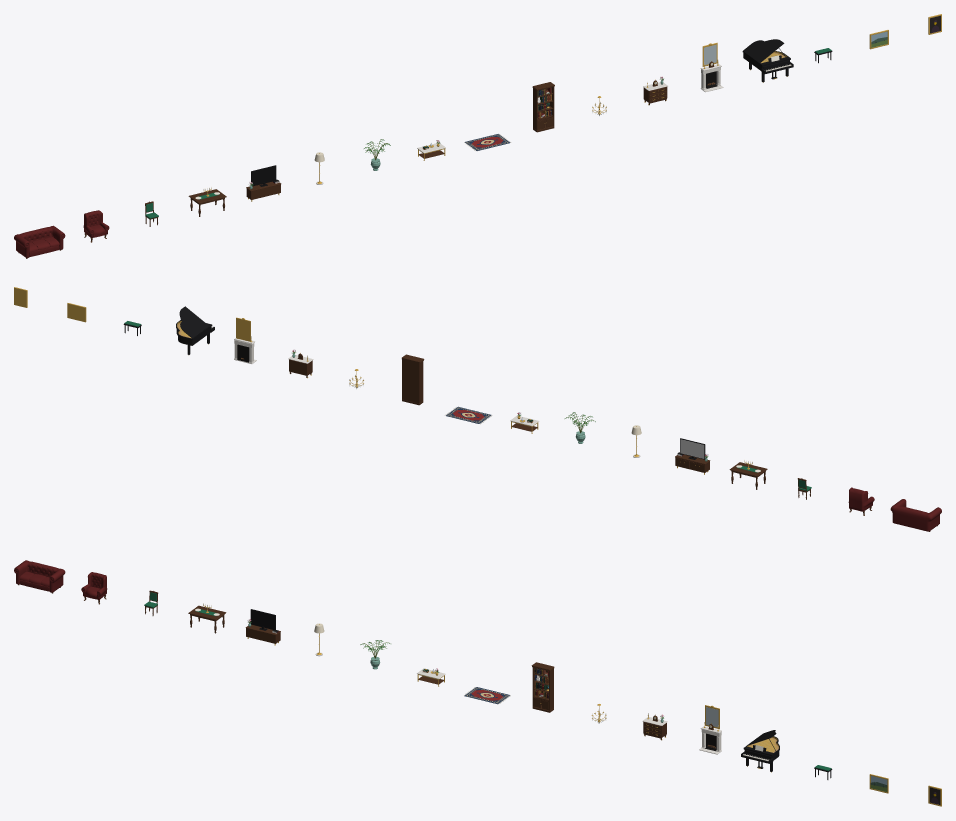
Rendered from Posh.glb.
3 renders of one model, top to bottom at view 1: azimuth 30°, elevation 25°; view 2: azimuth 150°, elevation 25°; view 3: azimuth 330°, elevation 25°, orthographic.
Parts seen in each view (by area): view 1: Piano, Sofa, Bookcase, TV, Fireplace, Armchair; view 2: Bookcase, Sofa, Piano, TV, Fireplace; view 3: Sofa, Bookcase, Piano, TV, Fireplace, Armchair.
Part boxes in pixels (left/top/right/bottom): Piano: left=742, top=39, right=793, bottom=82; Sofa: left=14, top=225, right=65, bottom=258; Bookcase: left=532, top=82, right=554, bottom=132; TV: left=246, top=165, right=281, bottom=201; Fireplace: left=700, top=42, right=723, bottom=92; Armchair: left=83, top=210, right=109, bottom=242; Bookcase: left=401, top=354, right=424, bottom=405; Sofa: left=890, top=499, right=941, bottom=531; Piano: left=176, top=306, right=214, bottom=355; TV: left=675, top=438, right=710, bottom=474; Fireplace: left=234, top=317, right=256, bottom=363; Sofa: left=14, top=560, right=65, bottom=593; Bookcase: left=531, top=662, right=554, bottom=712; Piano: left=741, top=730, right=779, bottom=772; TV: left=245, top=609, right=280, bottom=645; Fireplace: left=699, top=705, right=721, bottom=754; Armchair: left=81, top=572, right=107, bottom=604.
Size of the model in its own units: 247 by 11.49 by 10.39.
